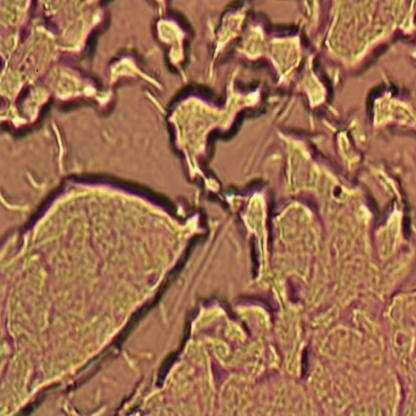Stage I: (224, 13, 416, 398), (0, 161, 189, 416)
